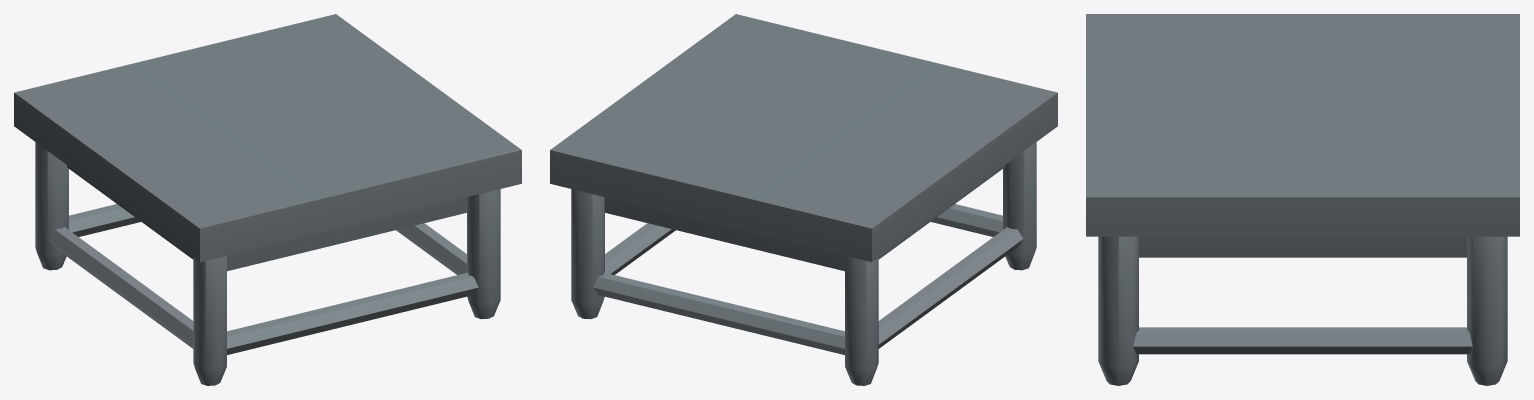
Rendered from koksbord.glb.
3 renders of one model, left to right at view 1: azimuth 30°, elevation 25°; view 2: azimuth 150°, elevation 25°; view 3: azimuth 270°, elevation 25°, orthographic. The views are drawn at different scales.
Parts seen in each view (by area): view 1: kitchentable_A; view 2: kitchentable_A; view 3: kitchentable_A.
Boxes of the visible parts, x1,y1,x2,y2 form: kitchentable_A: (14,14,521,385); kitchentable_A: (550,14,1057,385); kitchentable_A: (1086,14,1519,385).
Bounding box in the file's own units: 2 × 1 × 2.
Materials: 1 (1 with a texture image).
